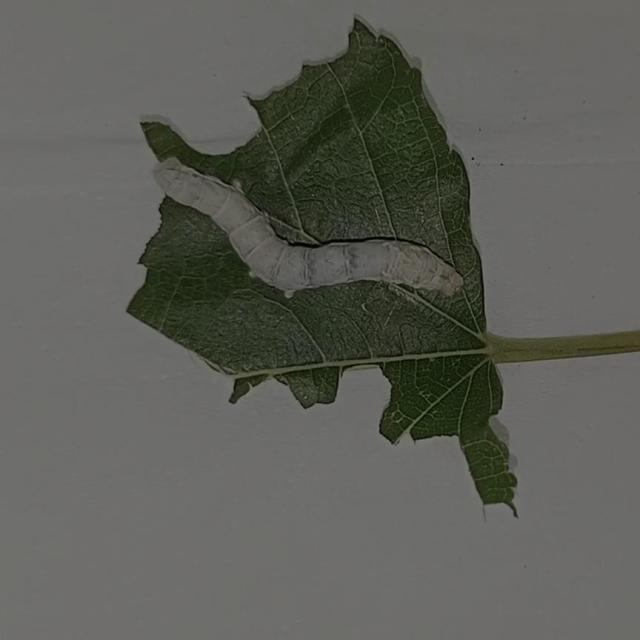Healthy: (132, 124, 484, 324)
